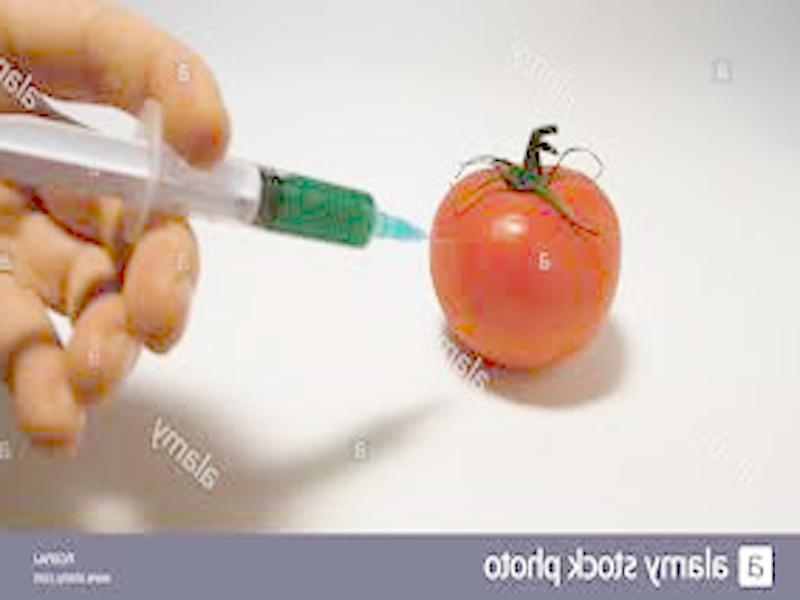Tomato: (429, 165, 618, 367)
